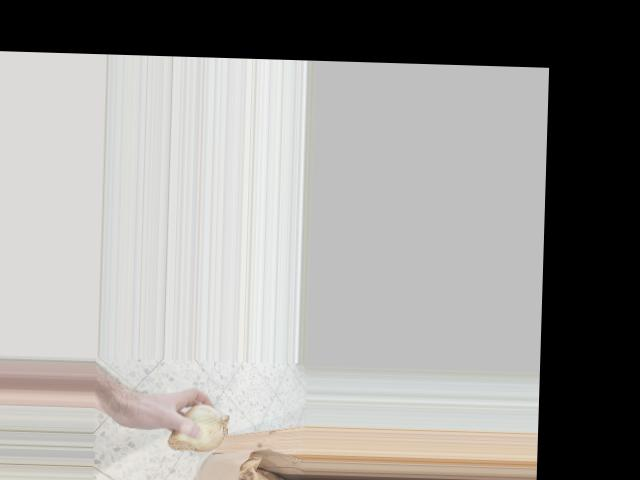onion: (165, 398, 230, 455)
